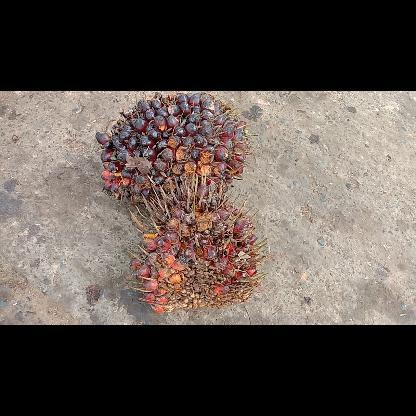Kurang masak: (95, 91, 253, 203)
TBS masak: (126, 172, 268, 312)
